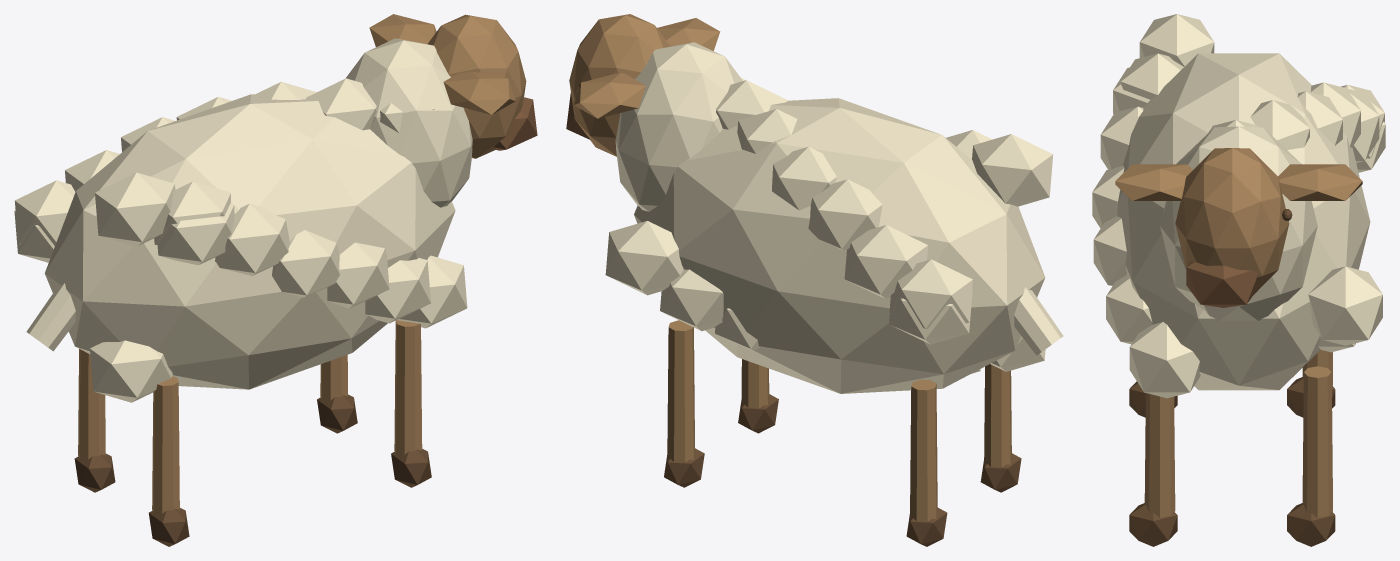
The picture shows the model from 3 angles, left to right: view 1: azimuth 30°, elevation 25°; view 2: azimuth 150°, elevation 25°; view 3: azimuth 270°, elevation 25°; orthographic projection. The views are drawn at different scales.
Parts seen in each view (by area): view 1: UP-006 Woolly pasture sheep batched; view 2: UP-006 Woolly pasture sheep batched; view 3: UP-006 Woolly pasture sheep batched.
Boxes of the visible parts, box(x1,y1,x2,y2) form: UP-006 Woolly pasture sheep batched: box(14, 14, 537, 546); UP-006 Woolly pasture sheep batched: box(566, 14, 1063, 546); UP-006 Woolly pasture sheep batched: box(1092, 14, 1385, 546).
Size of the model in its own units: 1.39 by 1.13 by 0.6697.
